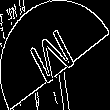M_SE: (28, 21, 82, 89)
